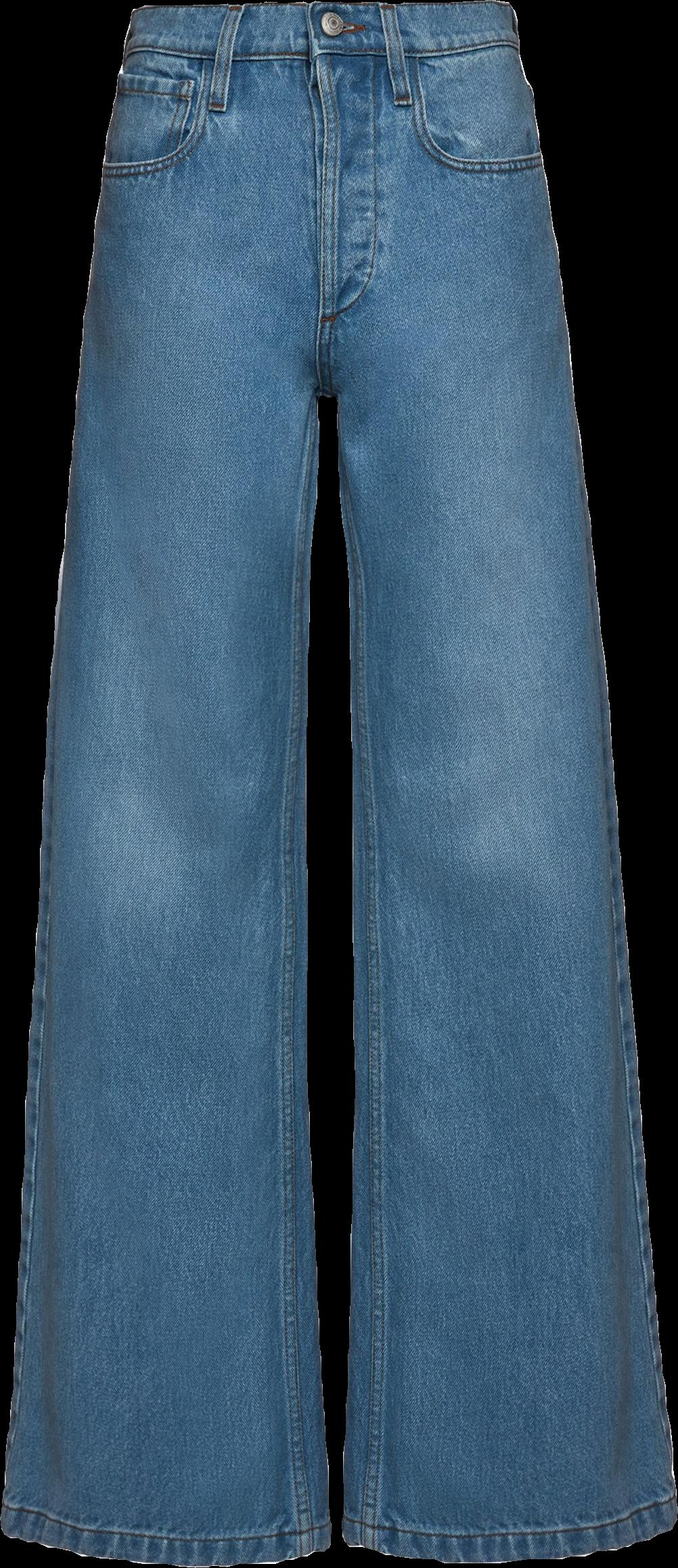Hemline: (338, 1505, 677, 1567), (0, 1523, 334, 1567)
Pantleg: (307, 0, 677, 1561), (1, 0, 330, 1564)
Waistline: (123, 26, 522, 70), (133, 0, 514, 26)
